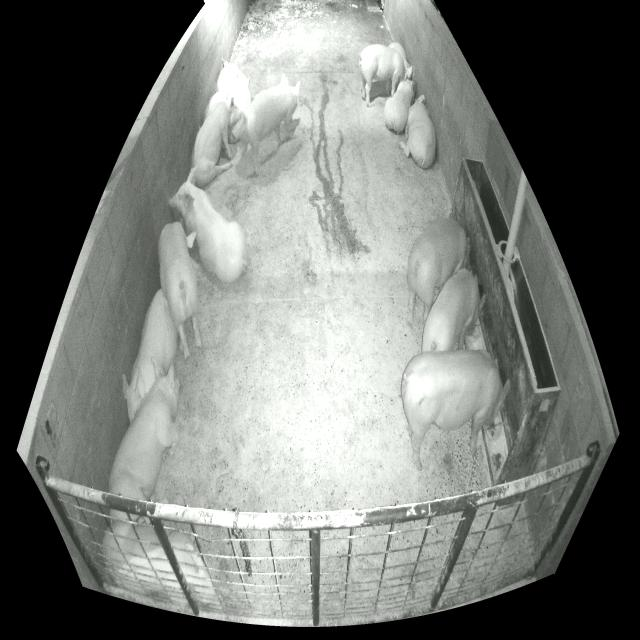pig: (401, 349, 510, 470), (108, 356, 182, 501), (103, 519, 215, 609), (169, 168, 247, 283), (122, 289, 178, 423), (408, 217, 469, 326), (159, 222, 202, 360), (422, 268, 485, 352), (191, 91, 242, 188), (242, 73, 301, 146), (215, 59, 251, 143), (397, 95, 436, 169), (359, 44, 402, 107), (384, 72, 414, 133), (389, 42, 412, 79), (205, 92, 226, 119)
